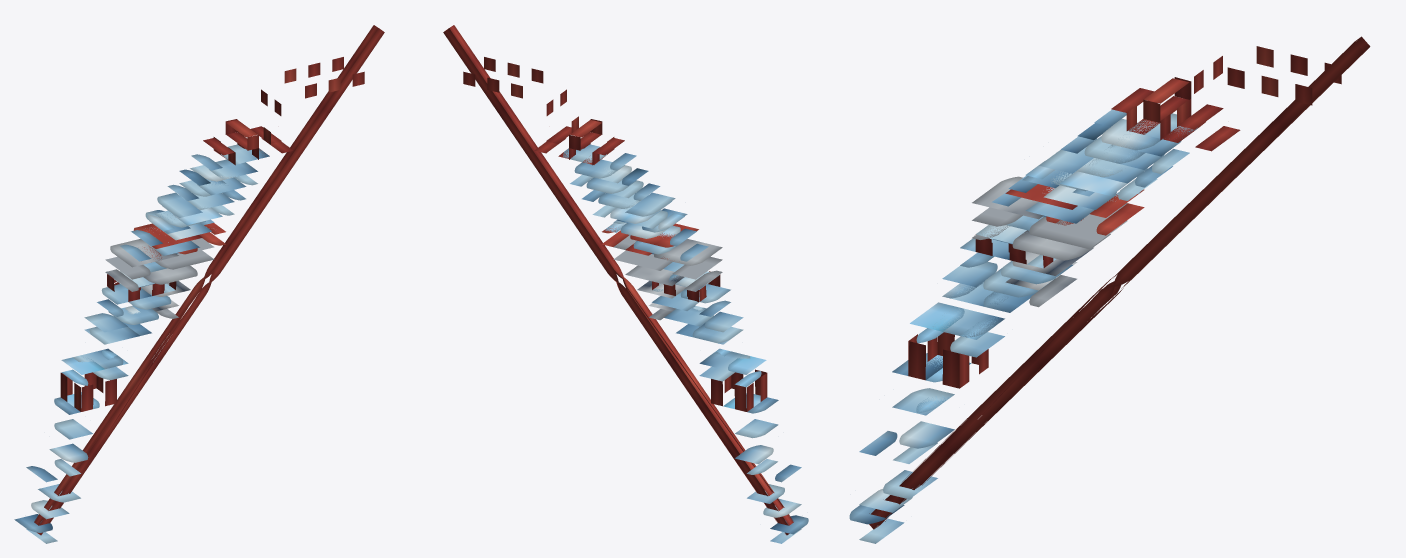
The model's file is frostbound_longbow.obj.
3 views of the same model, side by side, from view 1: azimuth 30°, elevation 25°; view 2: azimuth 150°, elevation 25°; view 3: azimuth 330°, elevation 25° (orthographic). The views are drawn at different scales.
Parts seen in each view (by area): view 1: lit; view 2: lit; view 3: lit.
Boxes of the visible parts, bbox=[...] form: lit: bbox=[14, 25, 384, 543]; lit: bbox=[443, 25, 808, 543]; lit: bbox=[849, 36, 1370, 543].
Size of the model in its own units: 0.9688 by 1.09 by 0.125.
